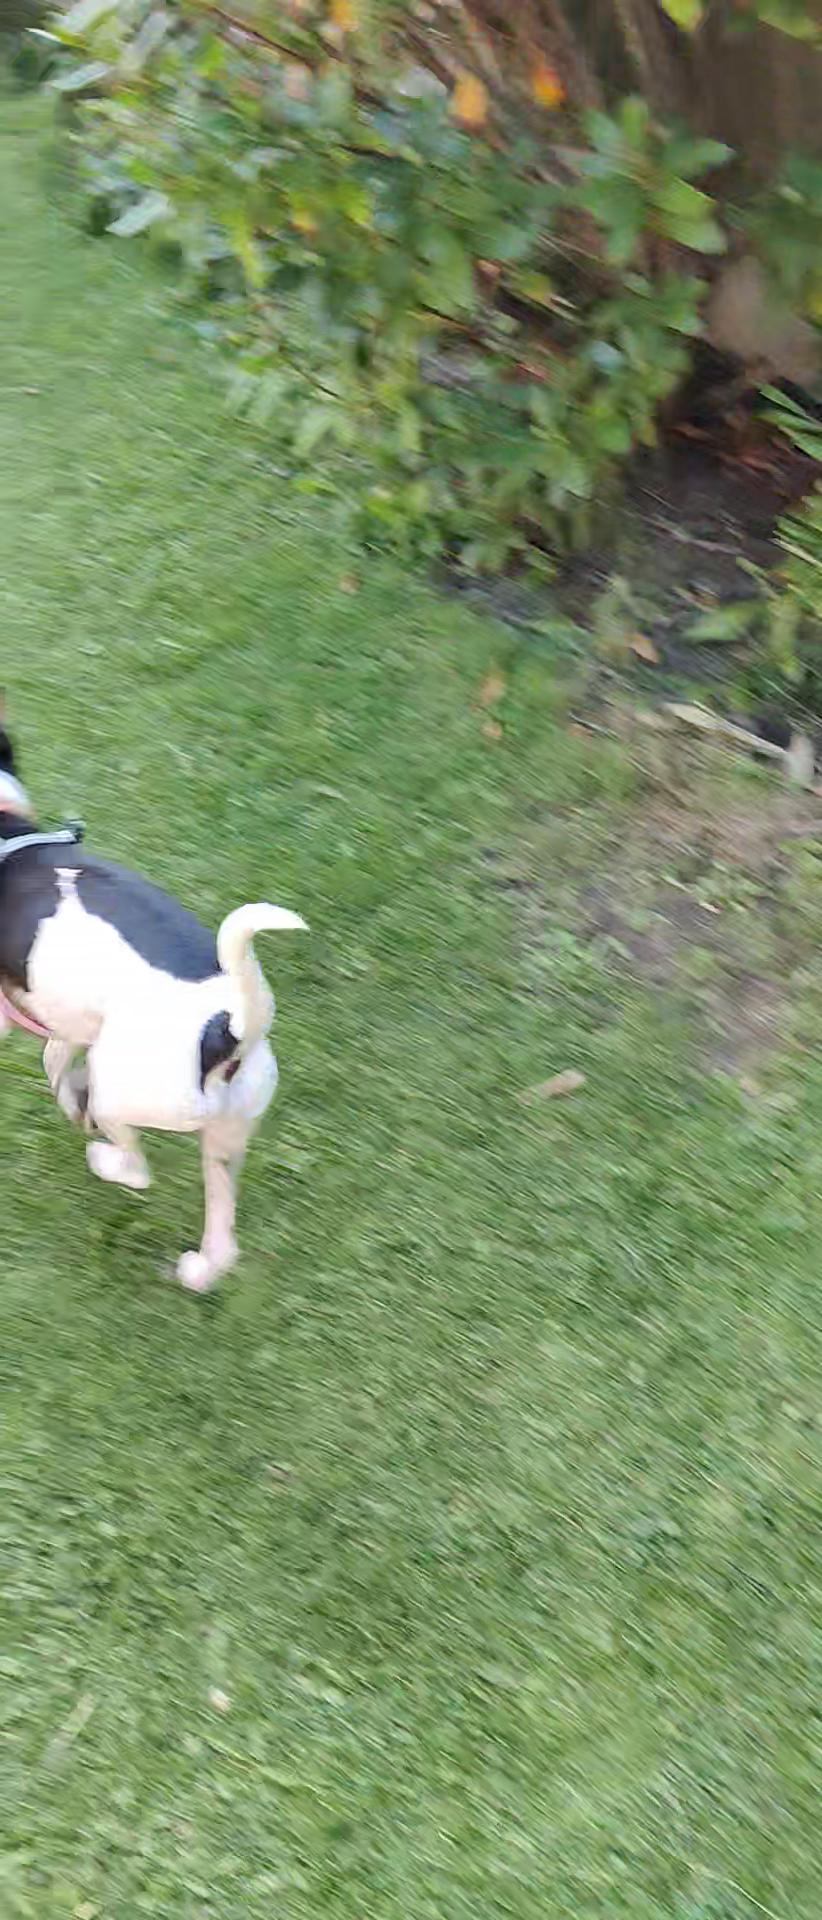Dog: (0, 687, 319, 1311)
